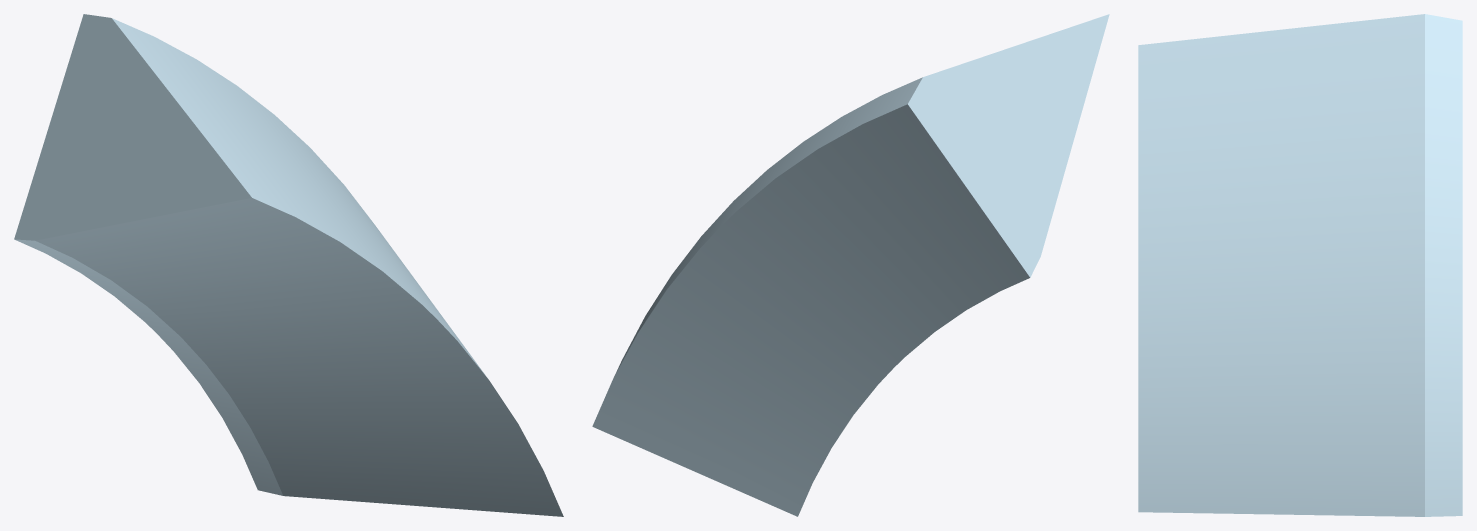
Rendered from Sub_4_Cell_3_1.gltf.
3 views of the same model, side by side, from view 1: azimuth 30°, elevation 25°; view 2: azimuth 150°, elevation 25°; view 3: azimuth 270°, elevation 25° (orthographic). The views are drawn at different scales.
Parts seen in each view (by area): view 1: Sub_4_Cell_3_1; view 2: Sub_4_Cell_3_1; view 3: Sub_4_Cell_3_1.
Boxes of the visible parts, box(x1,y1,x2,y2) form: Sub_4_Cell_3_1: box(14, 14, 563, 516); Sub_4_Cell_3_1: box(592, 14, 1109, 516); Sub_4_Cell_3_1: box(1138, 14, 1462, 516).
Size of the model in its own units: 0.0788 by 0.0855 by 0.0589.
